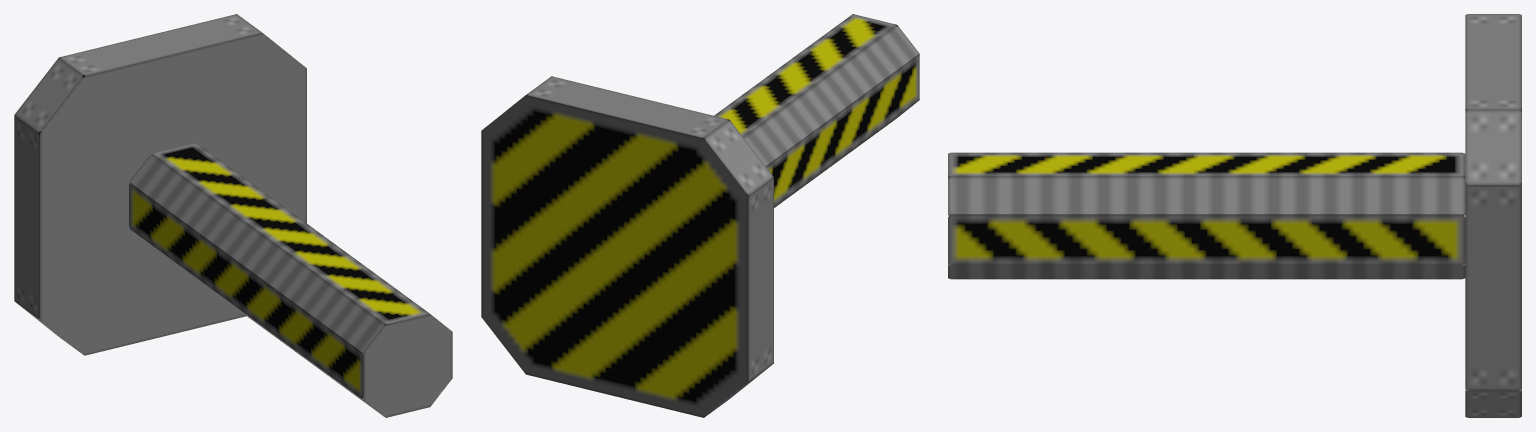
Rendered from PistonHead.fbx.
3 renders of one model, left to right at view 1: azimuth 30°, elevation 25°; view 2: azimuth 150°, elevation 25°; view 3: azimuth 270°, elevation 25°, orthographic. The views are drawn at different scales.
Visible parts, largest first — view 1: cuboid_1, cuboid; view 2: cuboid_1, cuboid; view 3: cuboid, cuboid_1.
Part boxes in pixels (box(x1,y1,x2,y2)): cuboid_1: box(14, 14, 306, 355); cuboid: box(129, 142, 452, 417); cuboid_1: box(481, 76, 773, 417); cuboid: box(714, 14, 919, 207); cuboid: box(948, 152, 1465, 279); cuboid_1: box(1465, 14, 1521, 417).
Bounding box in the file's own units: 300 × 300 × 506.
Materials: 1 (1 with a texture image).
